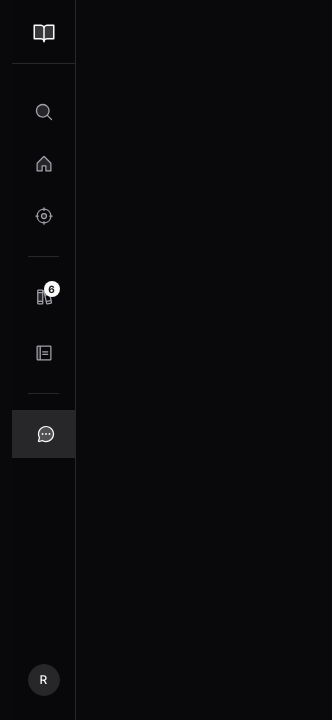
app navigation › adds an Ask section to the desktop sidebar with global and notes entry points
Hover over the element showing "6 R" at point(44, 360), box x1=12 y1=0 x2=76 y2=719
Wait 300 ms
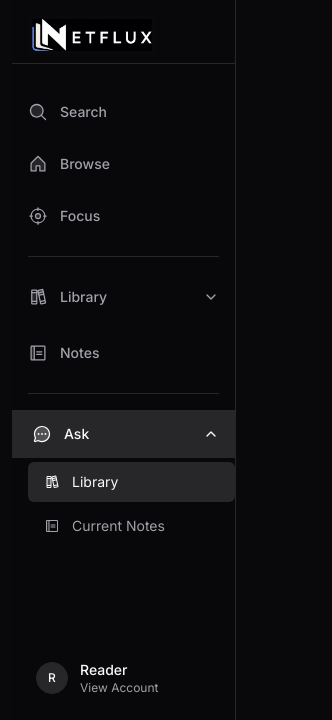
Result: the button "Ask" is shown at x1=12 y1=410 x2=235 y2=458
